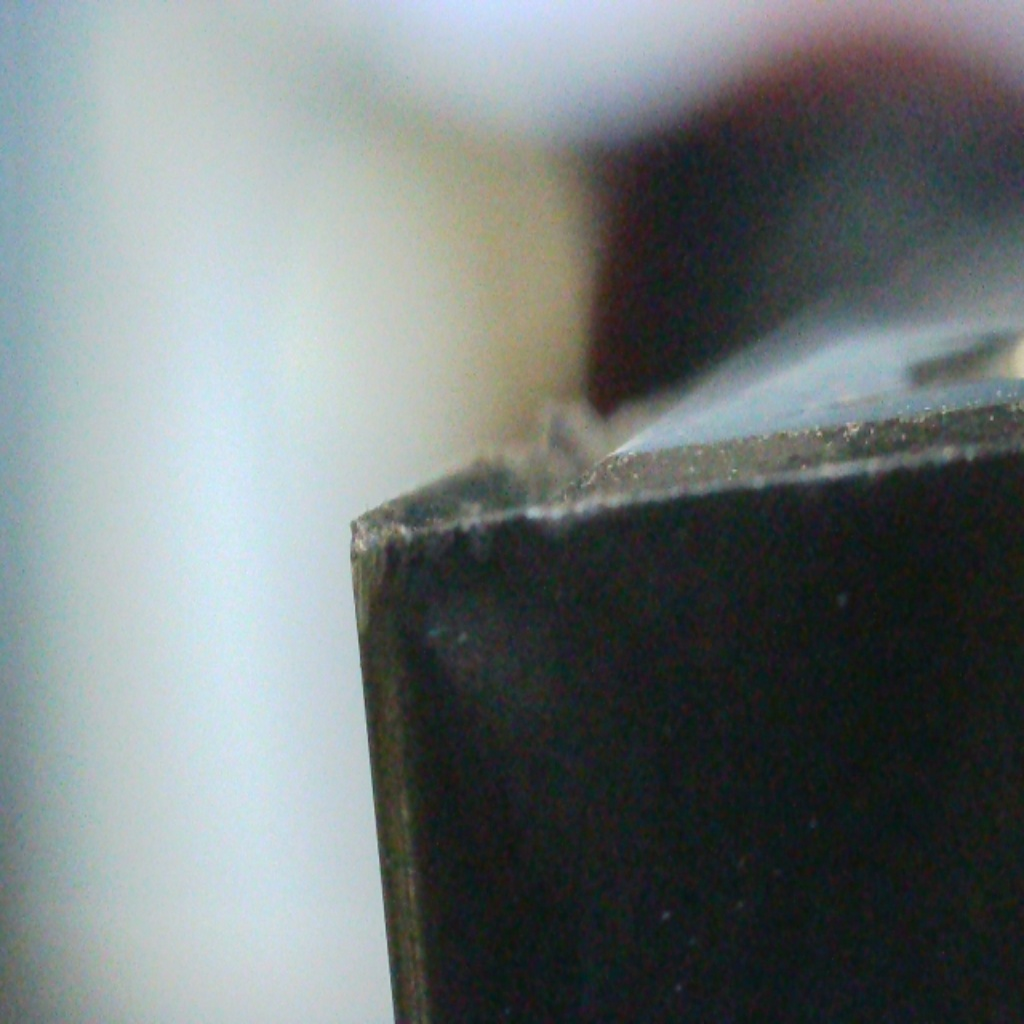flank_wear: (344, 526, 401, 641)
